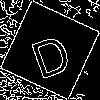D: (25, 25, 75, 81)
